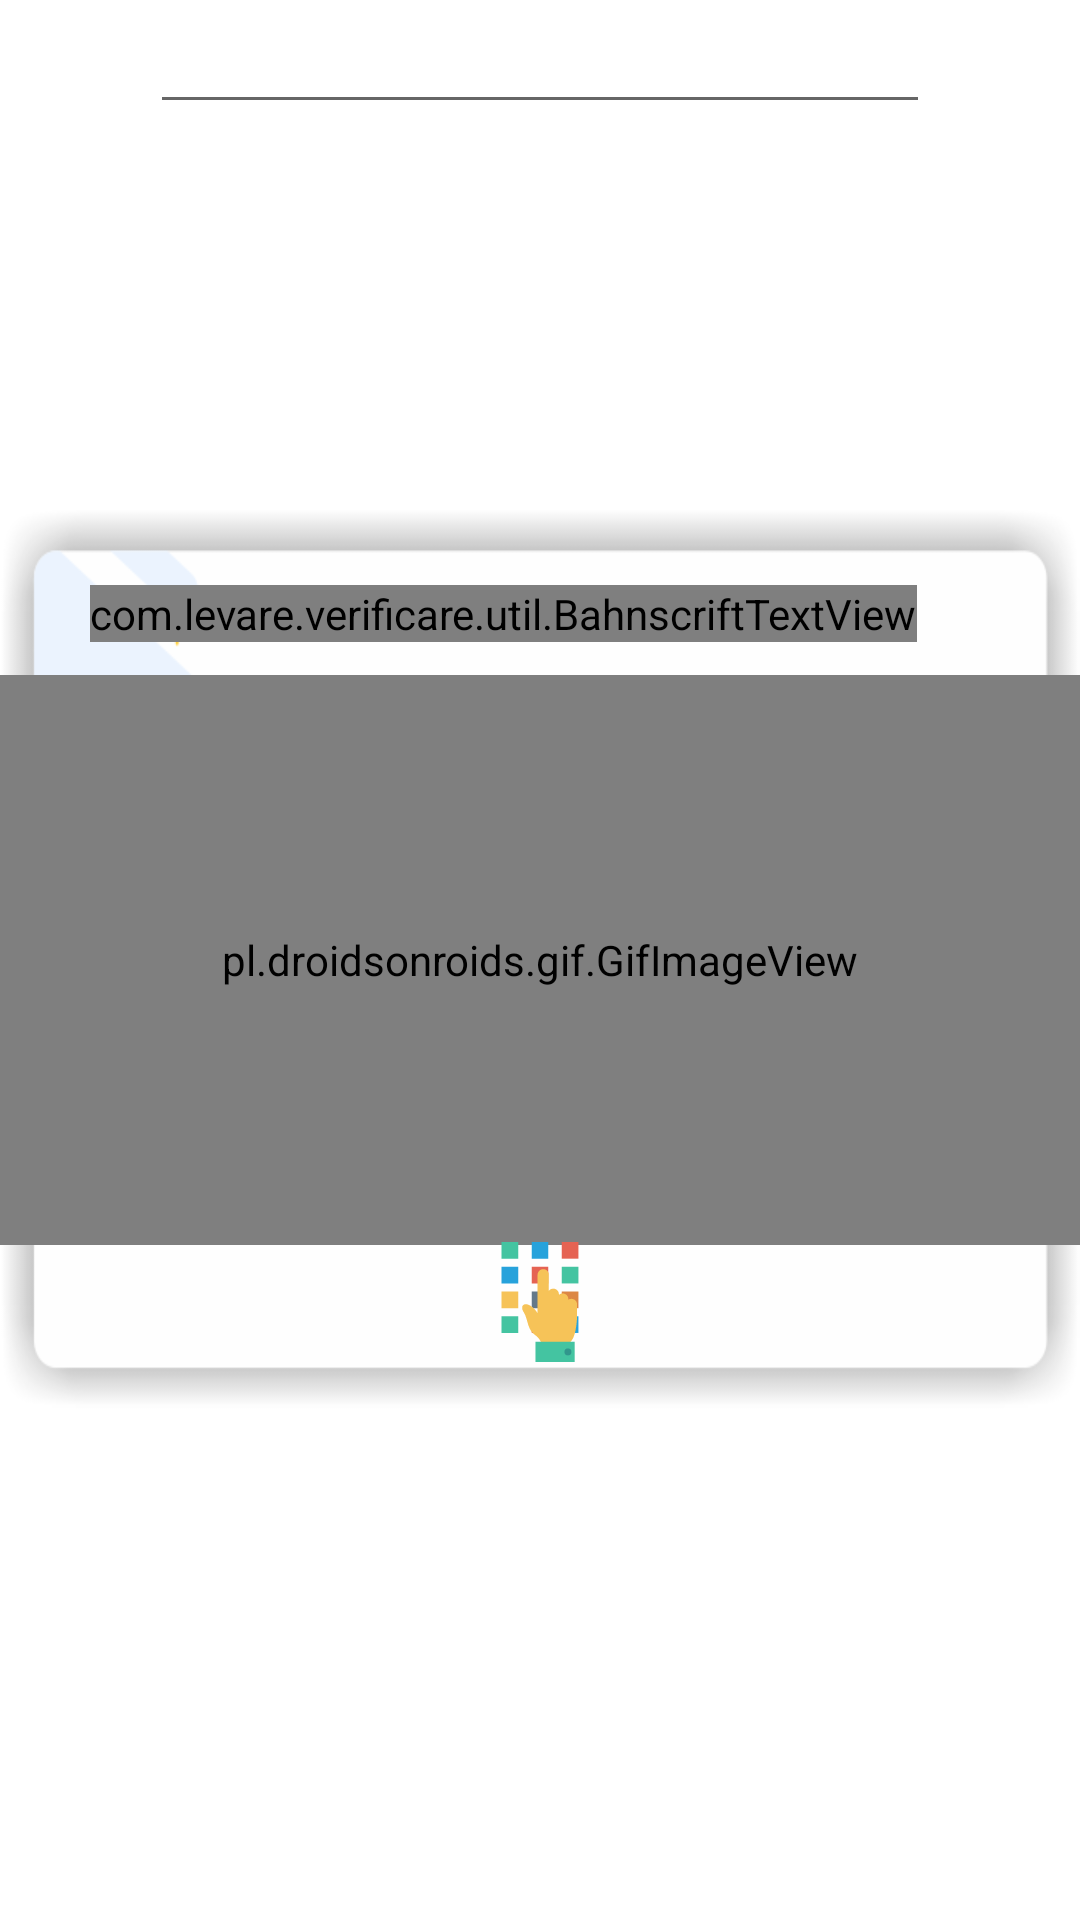

Icon click points for this 1080 × 1920 phone screenshot, format [x,y]:
keypad: [540,1314]
